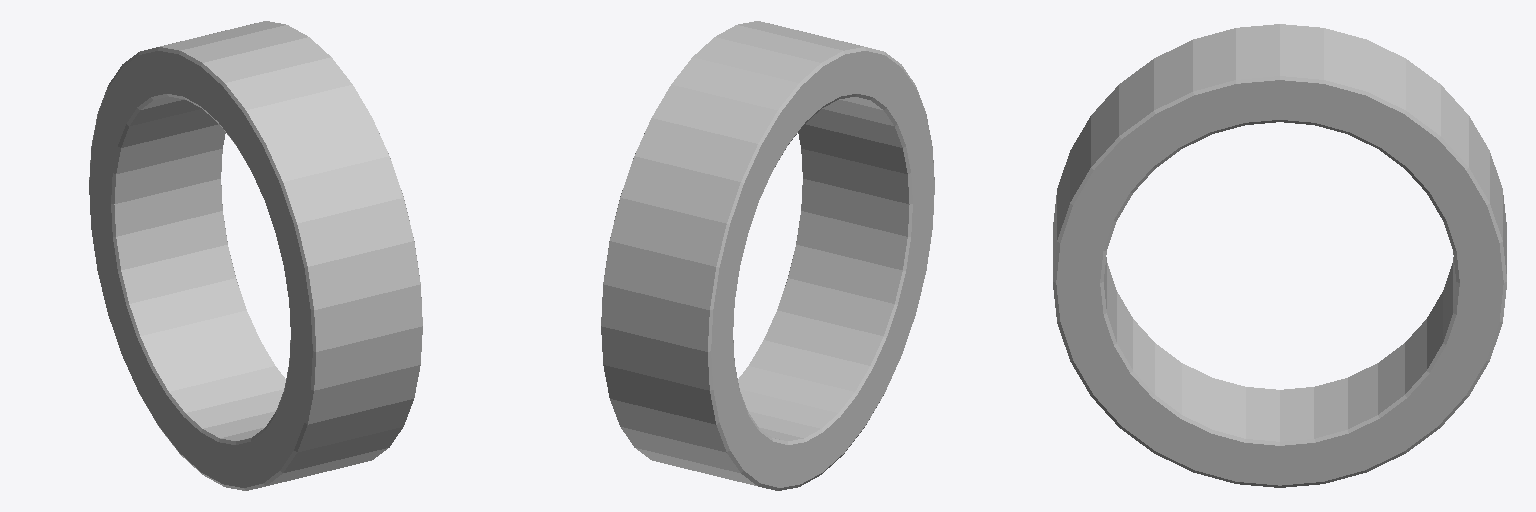
Rendered from Kuglelager-hinten-3.obj.
3 renders of one model, left to right at view 1: azimuth 30°, elevation 25°; view 2: azimuth 150°, elevation 25°; view 3: azimuth 270°, elevation 25°, orthographic.
Parts seen in each view (by area): view 1: Circle.007; view 2: Circle.007; view 3: Circle.007.
Boxes of the visible parts, x1=… form: Circle.007: x1=89, y1=21, x2=422, y2=490; Circle.007: x1=601, y1=21, x2=934, y2=490; Circle.007: x1=1053, y1=24, x2=1506, y2=487.
Size of the model in its own units: 0.0187 by 0.0669 by 0.0669.